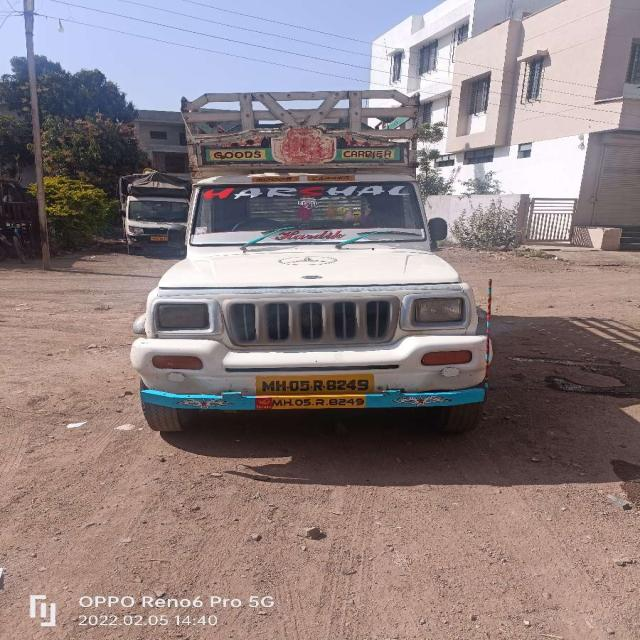light_vehicle: (131, 161, 497, 420)
